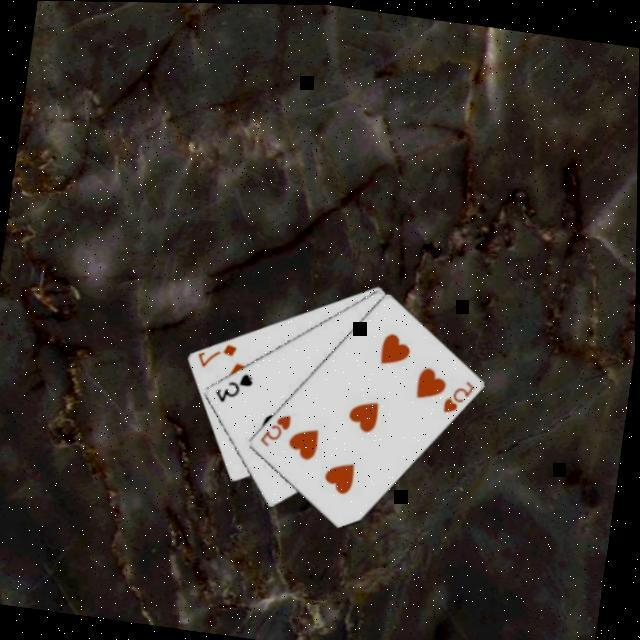3S: (212, 364, 256, 406)
5H: (255, 406, 295, 450), (438, 372, 478, 416)
7D: (193, 333, 240, 371)
